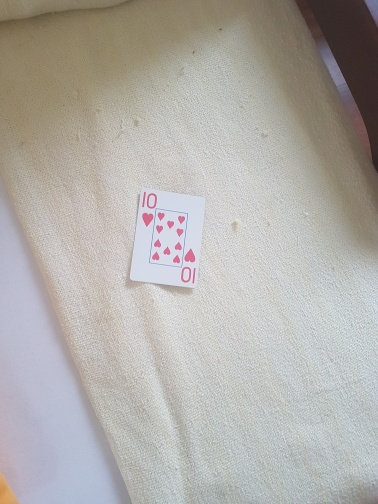ten: (129, 189, 205, 290)
